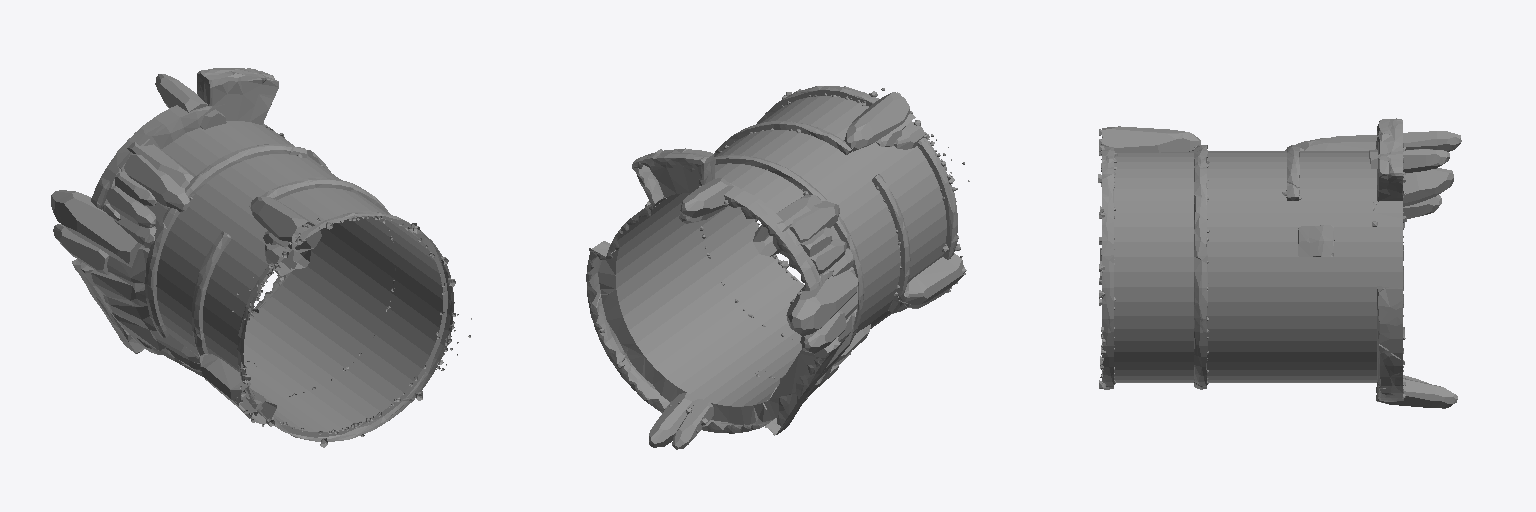
Rendered from IcePillar003.obj.
3 renders of one model, left to right at view 1: azimuth 30°, elevation 25°; view 2: azimuth 150°, elevation 25°; view 3: azimuth 270°, elevation 25°, orthographic.
Visible parts, largest first — view 1: In__IceMat, In__SandIcePillar00, In__IceinnerMat, In__PillarIceBig01; view 2: In__IceMat, In__IceinnerMat, In__SandIcePillar00, In__PillarIceBig01; view 3: In__IceMat, In__IceinnerMat, In__SandIcePillar00, In__PillarIceBig01.
Part boxes in pixels (bbox=[...]): In__IceMat: bbox=[147, 121, 442, 431]; In__SandIcePillar00: bbox=[51, 74, 321, 424]; In__IceinnerMat: bbox=[72, 68, 453, 441]; In__PillarIceBig01: bbox=[78, 68, 471, 447]; In__IceMat: bbox=[611, 96, 946, 406]; In__IceinnerMat: bbox=[586, 86, 957, 435]; In__SandIcePillar00: bbox=[649, 92, 963, 449]; In__PillarIceBig01: bbox=[589, 86, 969, 432]; In__IceMat: bbox=[1114, 151, 1403, 382]; In__IceinnerMat: bbox=[1102, 118, 1405, 401]; In__SandIcePillar00: bbox=[1100, 126, 1461, 408]; In__PillarIceBig01: bbox=[1098, 126, 1406, 401].
Bounding box in the file's own units: 2544 × 2662 × 3145.